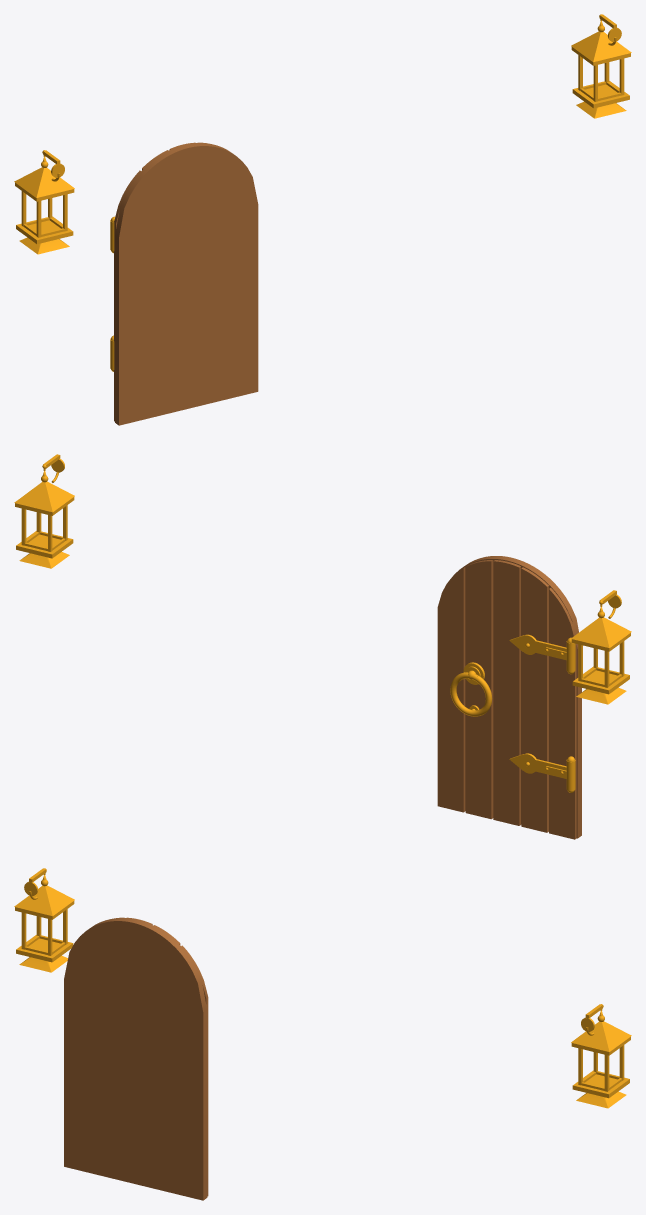
The model's file is HaloShop_Bakery_ornaments.glb.
3 views of the same model, one above another, from view 1: azimuth 30°, elevation 25°; view 2: azimuth 150°, elevation 25°; view 3: azimuth 330°, elevation 25° (orthographic).
Parts seen in each view (by area): view 1: Orn_HaloShop_Bakery_Leaf, Orn_HaloShop_Bakery_Lantern0, Orn_HaloShop_Bakery_Lantern1; view 2: Orn_HaloShop_Bakery_Leaf, Orn_HaloShop_Bakery_Lantern1, Orn_HaloShop_Bakery_Lantern0, Orn_HaloShop_Bakery_Hinge0, Orn_HaloShop_Bakery_Hinge1, Orn_HaloShop_Bakery_Knocker; view 3: Orn_HaloShop_Bakery_Leaf, Orn_HaloShop_Bakery_Lantern0, Orn_HaloShop_Bakery_Lantern1.
Boxes of the visible parts, left/top/right/bottom form: Orn_HaloShop_Bakery_Leaf: left=114, top=142, right=258, bottom=425; Orn_HaloShop_Bakery_Lantern0: left=571, top=14, right=631, bottom=118; Orn_HaloShop_Bakery_Lantern1: left=14, top=150, right=74, bottom=254; Orn_HaloShop_Bakery_Leaf: left=437, top=556, right=581, bottom=839; Orn_HaloShop_Bakery_Lantern1: left=571, top=590, right=631, bottom=704; Orn_HaloShop_Bakery_Lantern0: left=14, top=454, right=74, bottom=568; Orn_HaloShop_Bakery_Hinge0: left=509, top=753, right=575, bottom=792; Orn_HaloShop_Bakery_Hinge1: left=509, top=634, right=575, bottom=674; Orn_HaloShop_Bakery_Knocker: left=450, top=662, right=492, bottom=716; Orn_HaloShop_Bakery_Leaf: left=64, top=917, right=208, bottom=1200; Orn_HaloShop_Bakery_Lantern0: left=571, top=1004, right=631, bottom=1108; Orn_HaloShop_Bakery_Lantern1: left=14, top=868, right=74, bottom=972.
Bounding box in the file's own units: 18.4 × 7.88 × 2.07.
